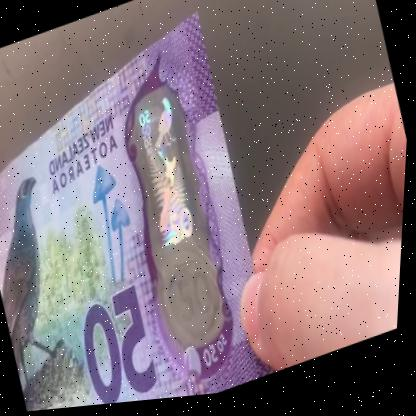50B: (118, 87, 236, 348)
